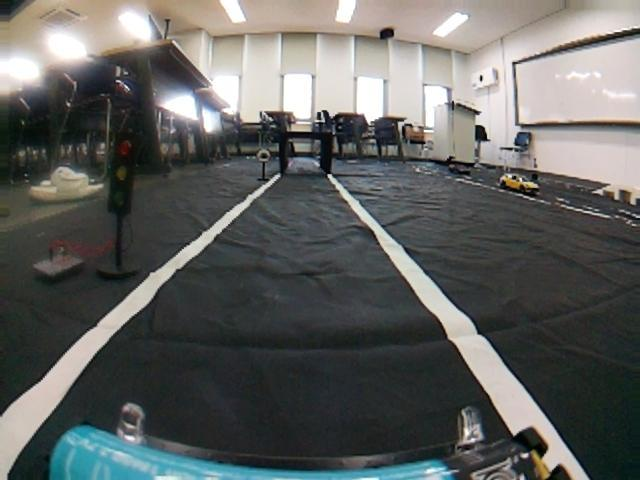green_light: (108, 96, 132, 208)
sign_tunnel: (256, 149, 270, 161)
straight: (0, 166, 616, 480)
